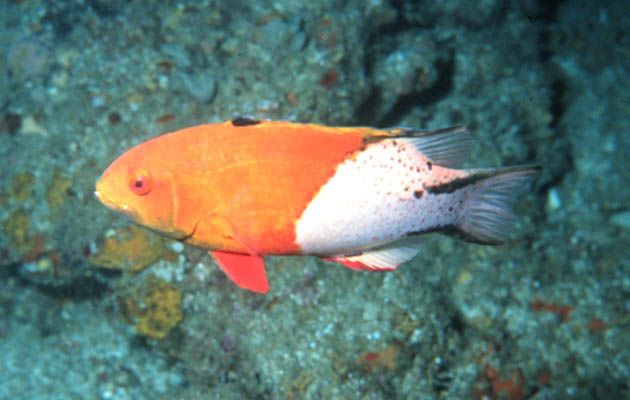fish: (95, 119, 542, 294)
